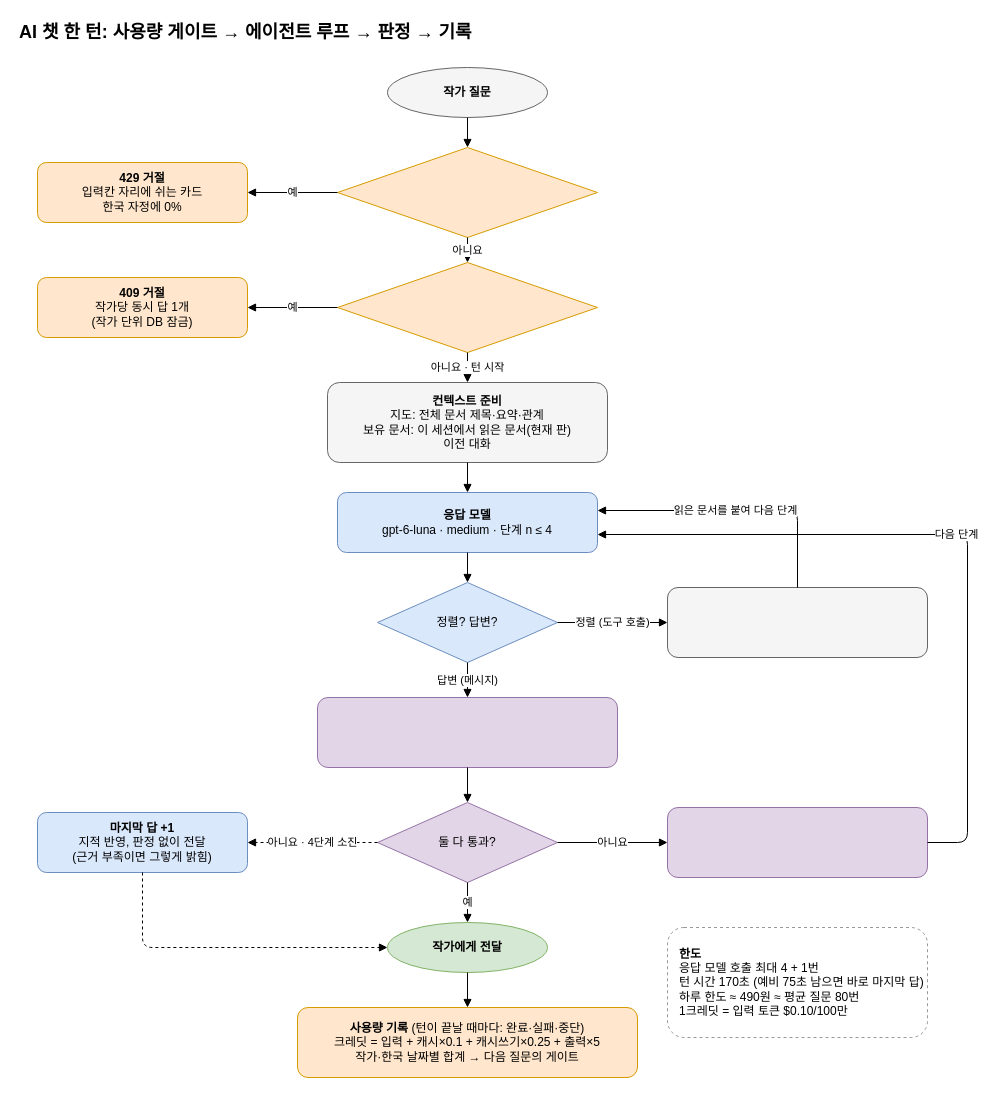
This 995x1095 diagram has some shape labels left out. The shapes that lost their labels are listed below. From the top down, each one's centre as x and y in pixels, then its label:
At [467,192]: "오늘 사용량 ≥ 하루 한도? 350만 크레딧 ≈ 490원".
At [467,307]: "이 작가의 다른 세션이 답을 쓰는 중?".
At [797,622]: "서버가 정렬 순서대로 문서 읽기 단계당 최대 4만 자 · id 최대 20개 못 담은 문서는 다음 단계에 다시 요청".
At [467,732]: "판정 모델 2개 병렬 (low) 충분성: 문서만으로 답이 서나 (AI 글은 안 봄) 답변 검사: 근거·인용·합리성".
At [797,842]: "리뷰를 응답 모델에 돌려줌 빠진 사실(missing) + 지적(problems) → 더 정렬하거나 고쳐 씀".
